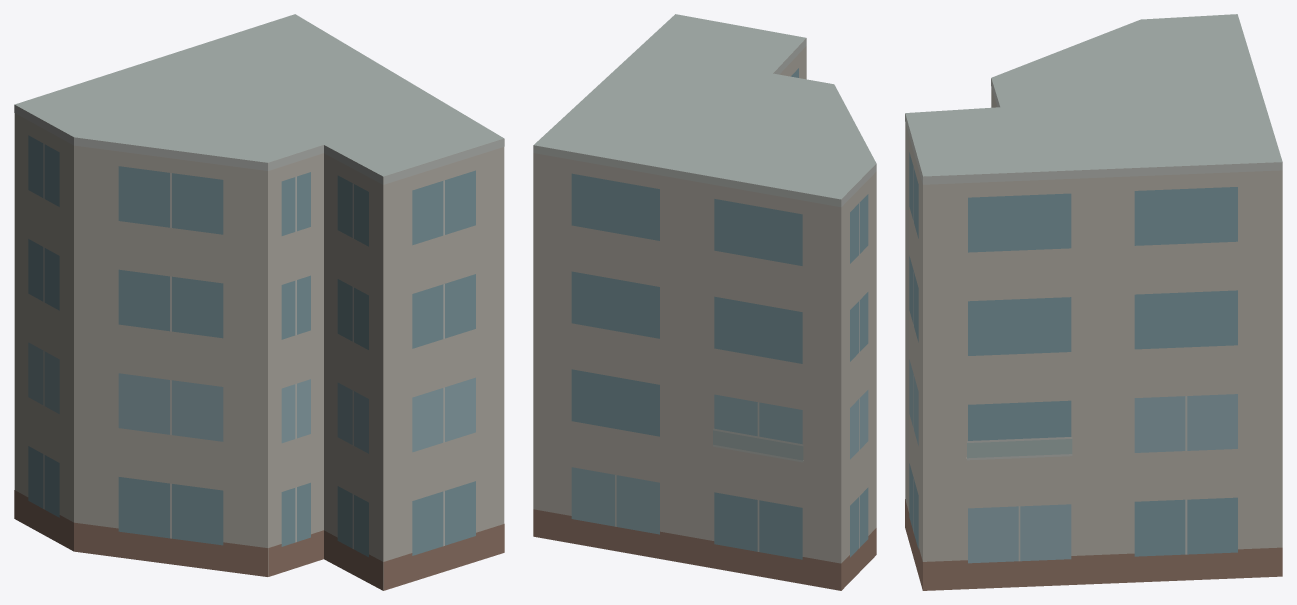
File: survey-upis-32653140.glb
3 renders of one model, left to right at view 1: azimuth 30°, elevation 25°; view 2: azimuth 150°, elevation 25°; view 3: azimuth 270°, elevation 25°, orthographic. The views are drawn at different scales.
Parts seen in each view (by area): view 1: survey-upis-32653140.tmp; view 2: survey-upis-32653140.tmp; view 3: survey-upis-32653140.tmp.
Part boxes in pixels (x1,y1,x2,y2): survey-upis-32653140.tmp: (14,14,504,590); survey-upis-32653140.tmp: (533,14,876,590); survey-upis-32653140.tmp: (905,14,1282,590).
Size of the model in its own units: 10.27 by 12.2 by 10.08.
